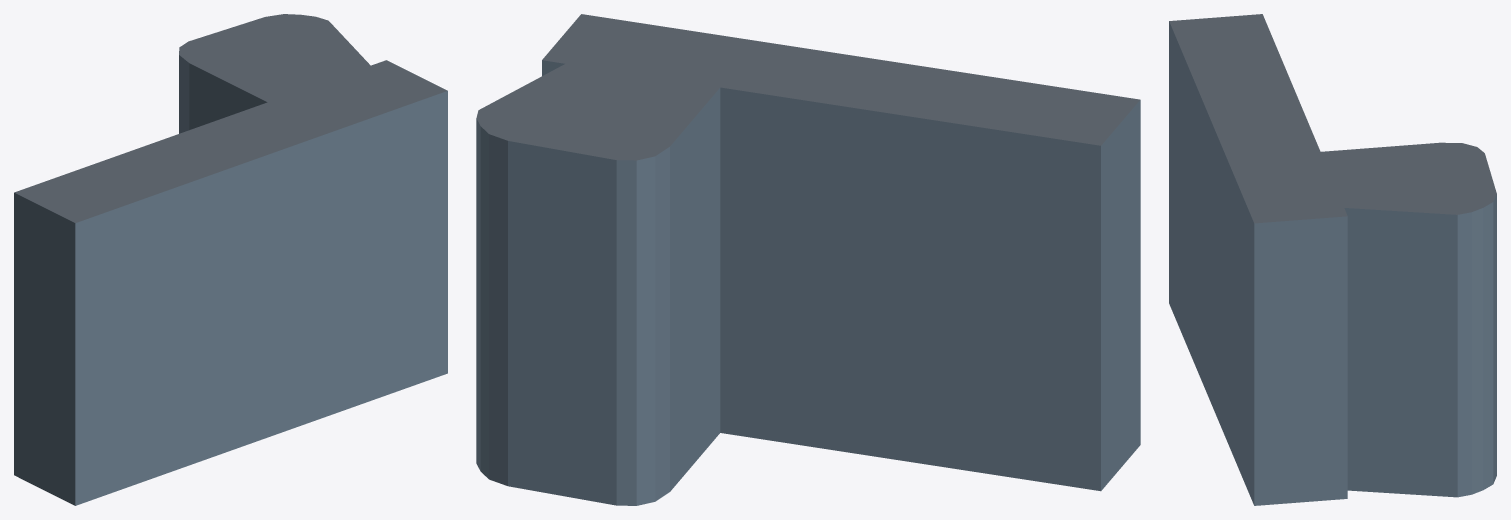
3 views of the same model, side by side, from view 1: azimuth 30°, elevation 25°; view 2: azimuth 150°, elevation 25°; view 3: azimuth 270°, elevation 25° (orthographic). The views are drawn at different scales.
Parts seen in each view (by area): view 1: HP-w378107169; view 2: HP-w378107169; view 3: HP-w378107169.
Part boxes in pixels (<box>): HP-w378107169: <box>14,14,447,505</box>; HP-w378107169: <box>476,14,1140,505</box>; HP-w378107169: <box>1169,14,1496,505</box>.
Size of the model in its own units: 84.6 by 53.2 by 55.94.
